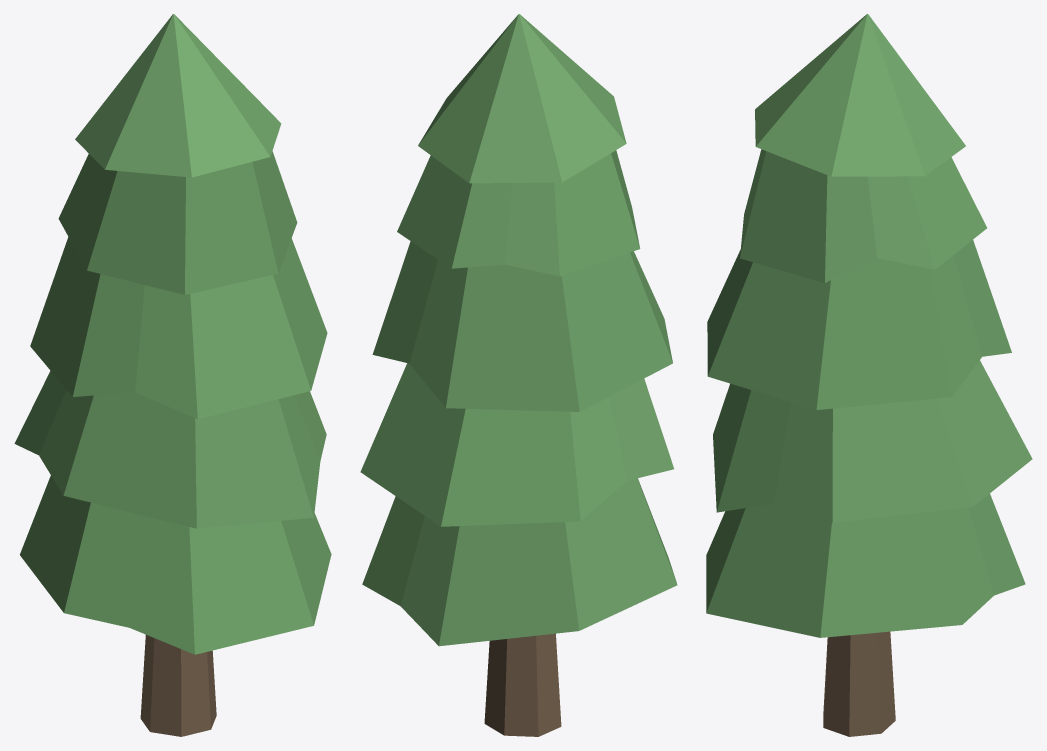
Rendered from arvore nova 3.fbx.
3 renders of one model, left to right at view 1: azimuth 30°, elevation 25°; view 2: azimuth 150°, elevation 25°; view 3: azimuth 270°, elevation 25°, orthographic.
Parts seen in each view (by area): view 1: Cylinder; view 2: Cylinder; view 3: Cylinder.
Part boxes in pixels (x1,y1,x2,y2): Cylinder: (14, 14, 331, 736); Cylinder: (360, 14, 677, 736); Cylinder: (706, 14, 1032, 736).
Size of the model in its own units: 355 by 888 by 372.
